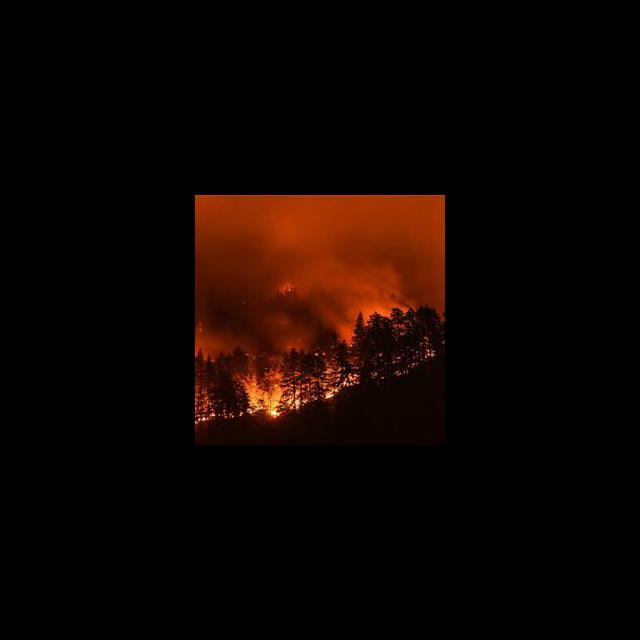Fire: (195, 342, 361, 429)
